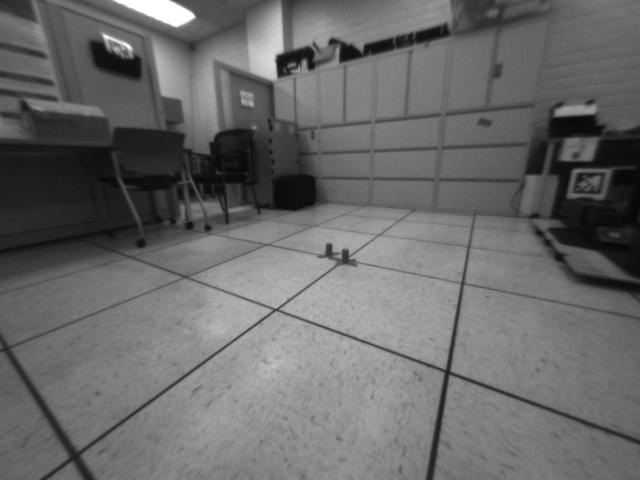X: (332, 247, 358, 270), (315, 241, 340, 262)
